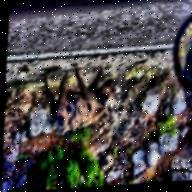boar: (38, 65, 117, 141)
